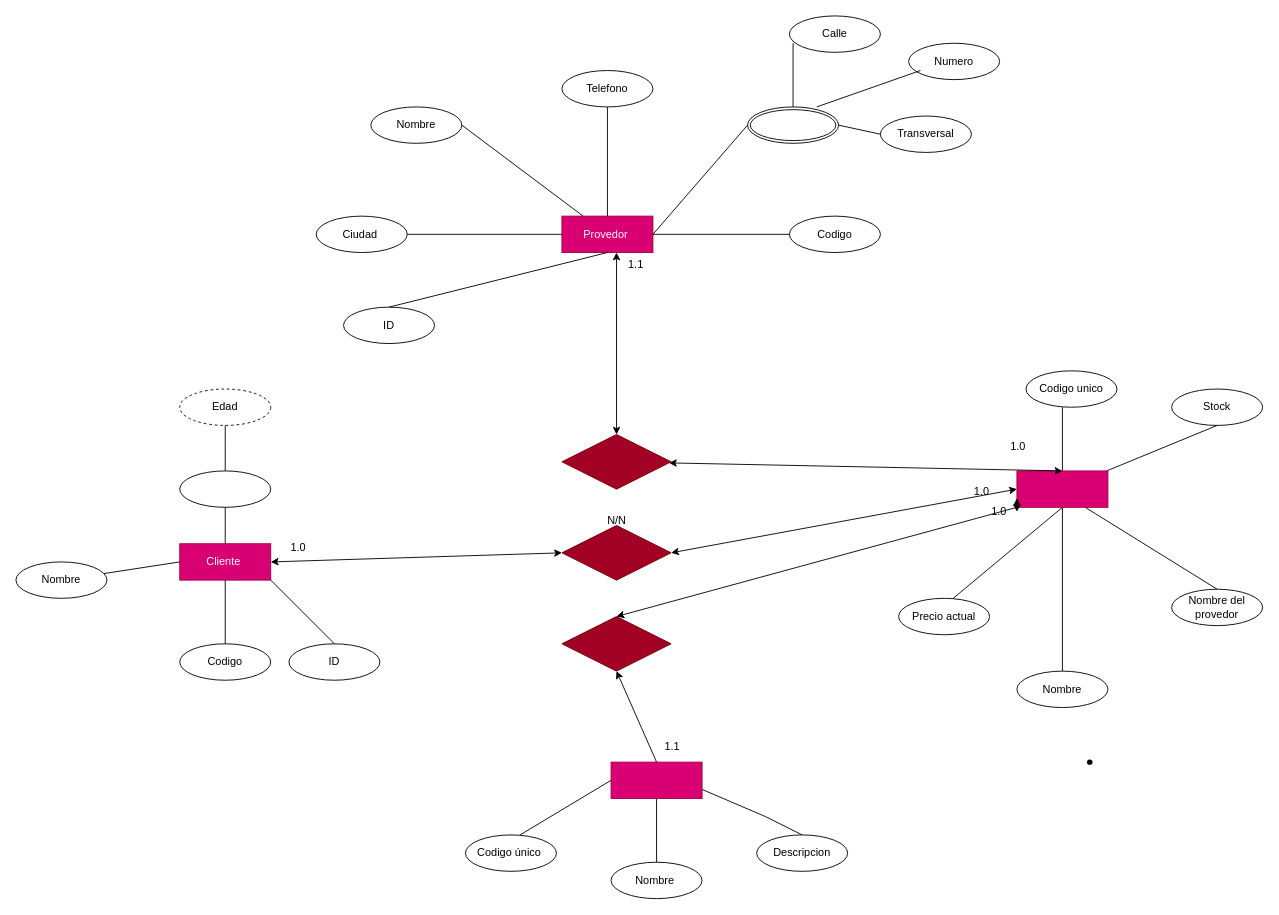
The diagram is 1279 pixels wide and 915 high, and some of its shapes have lost their labels. The box of each missing label's shape, as (x1, y1, x2, y2) in pixels:
Categoria: (610, 761, 702, 799)
Compra: (561, 525, 671, 580)
Dirrecion: (747, 106, 839, 143)
Fecha de nacimiento: (179, 470, 271, 507)
Pertenecen: (561, 616, 671, 671)
Producto: (1016, 470, 1108, 507)
Suministra: (561, 434, 671, 489)
